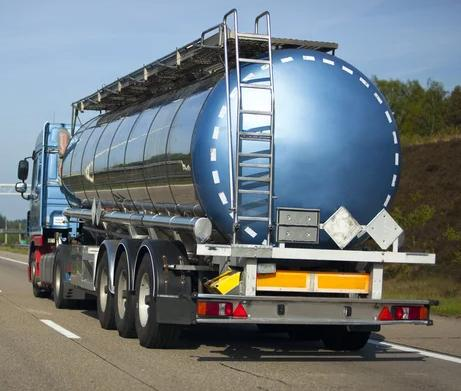vehicle: (16, 9, 439, 351)
